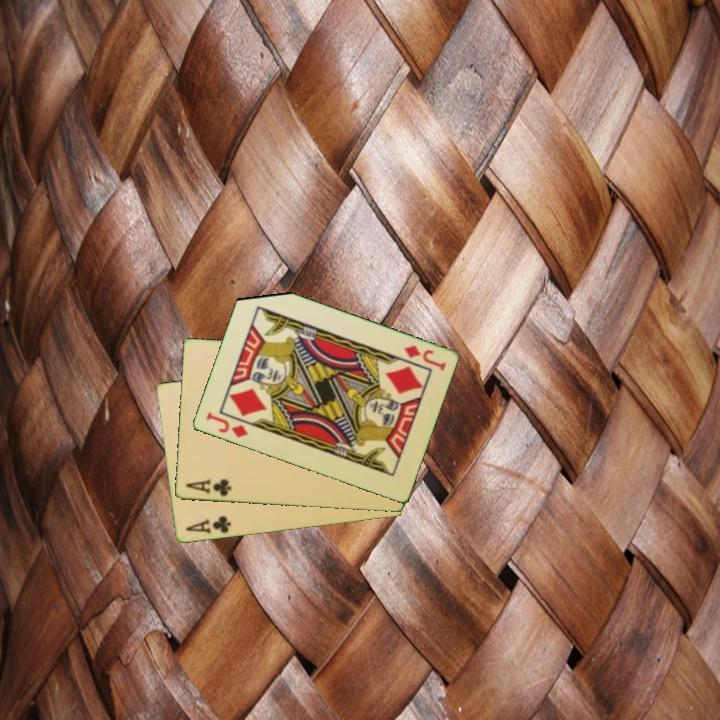Ac: (182, 513, 233, 537), (182, 476, 234, 499)
Jd: (202, 408, 251, 441), (400, 342, 449, 374)
